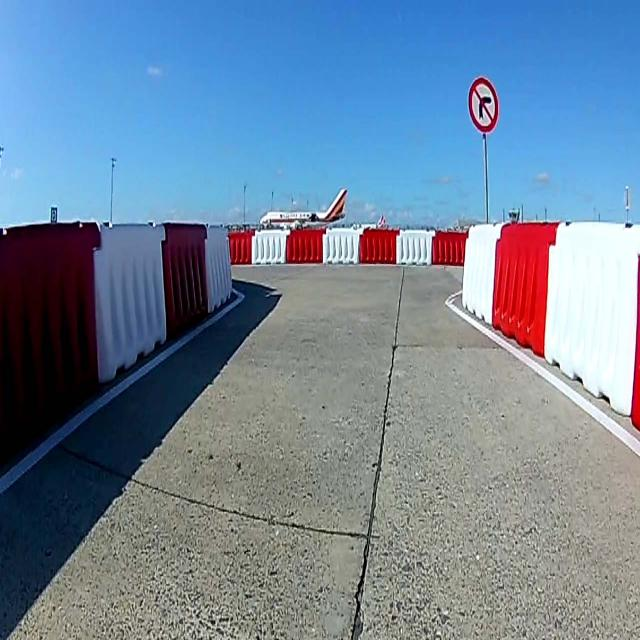sagadonulmez: (468, 77, 498, 132)
